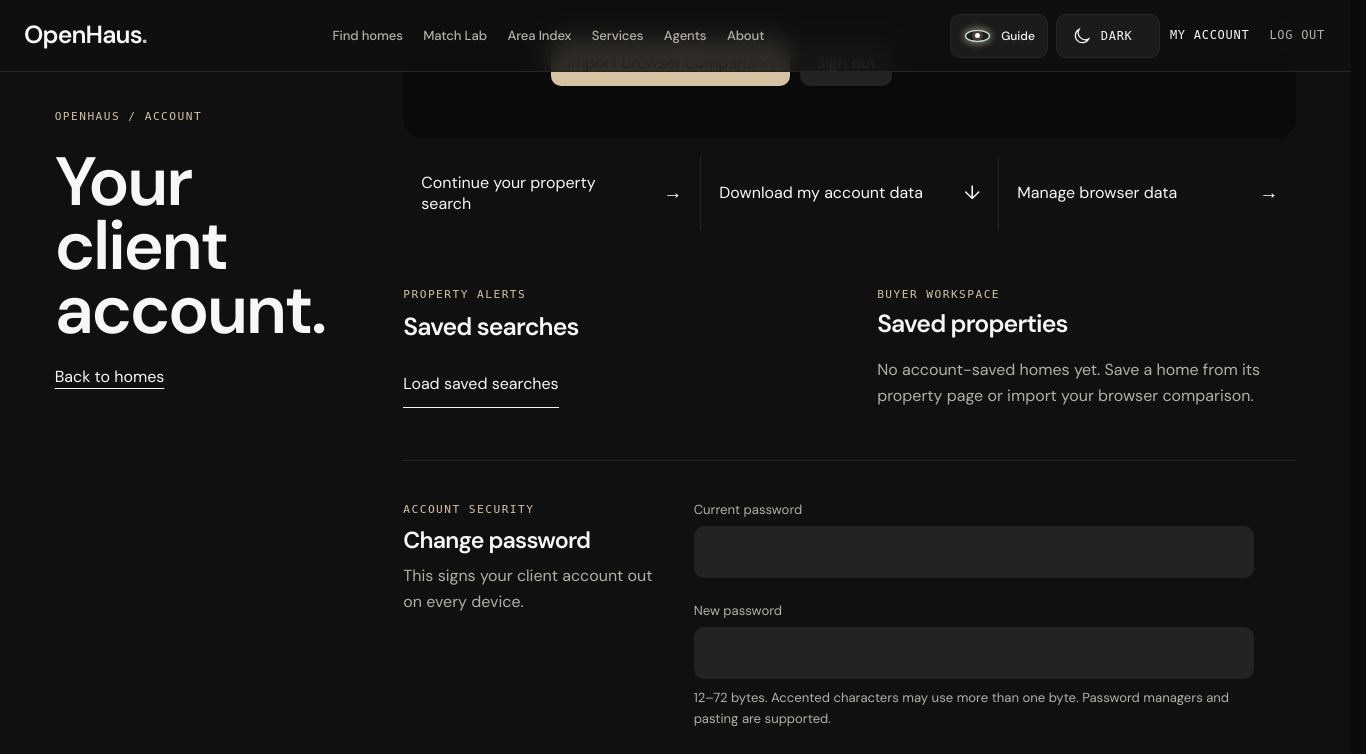
Test: loads and removes account-owned saved searches on demand
(page scrolled)
Expected: the text "No account-saved homes yet" is shown, [877,359,1260,406]
What coordinates should you click on to do the following:
click the button "Load saved searches"
I would click on:
 (481, 384)
Its box is [403,360,559,408].
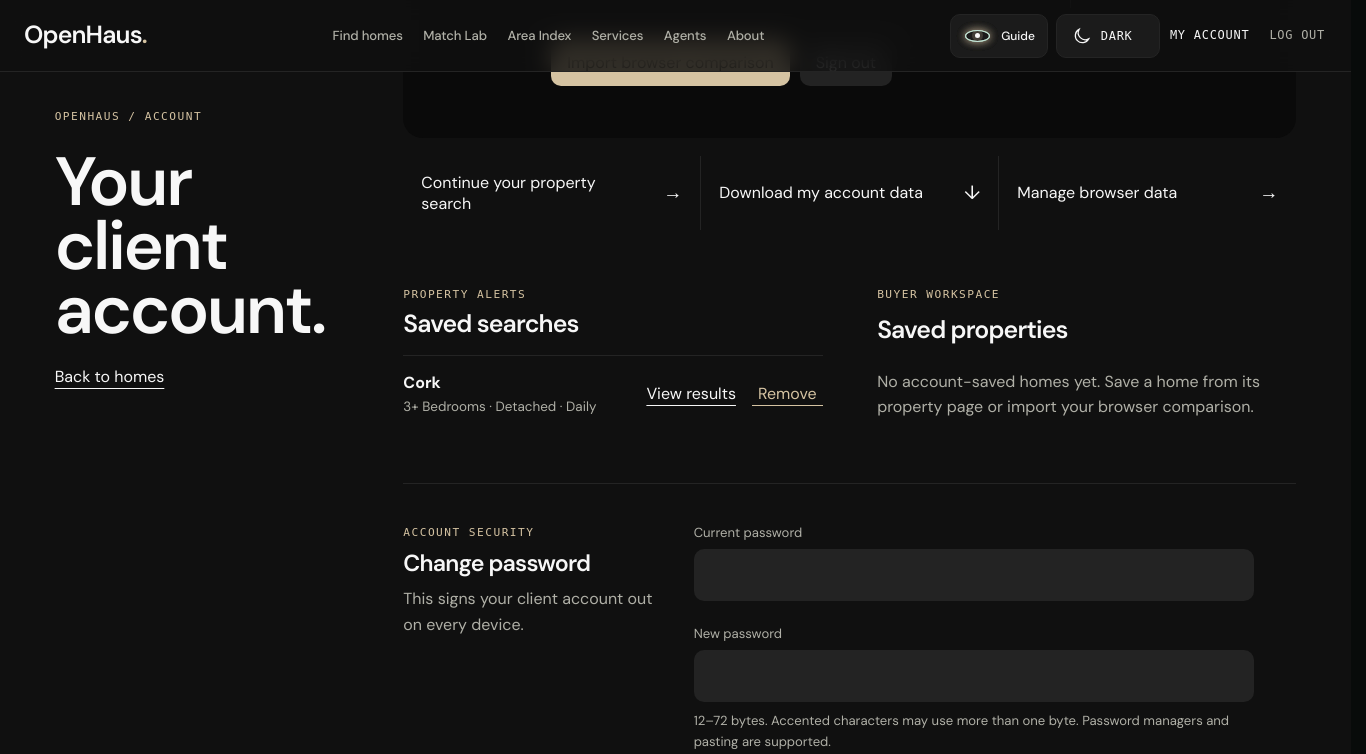
Expected: the text "Cork" is shown, [403,372,441,393]
Expected: the text "3+ bedrooms · detached · daily" is shown, [403,398,596,415]
What coordinates should you click on to do the following:
click the button "Remove"
I would click on:
 (787, 394)
Its box is [752,382,823,406].
(page scrolled)
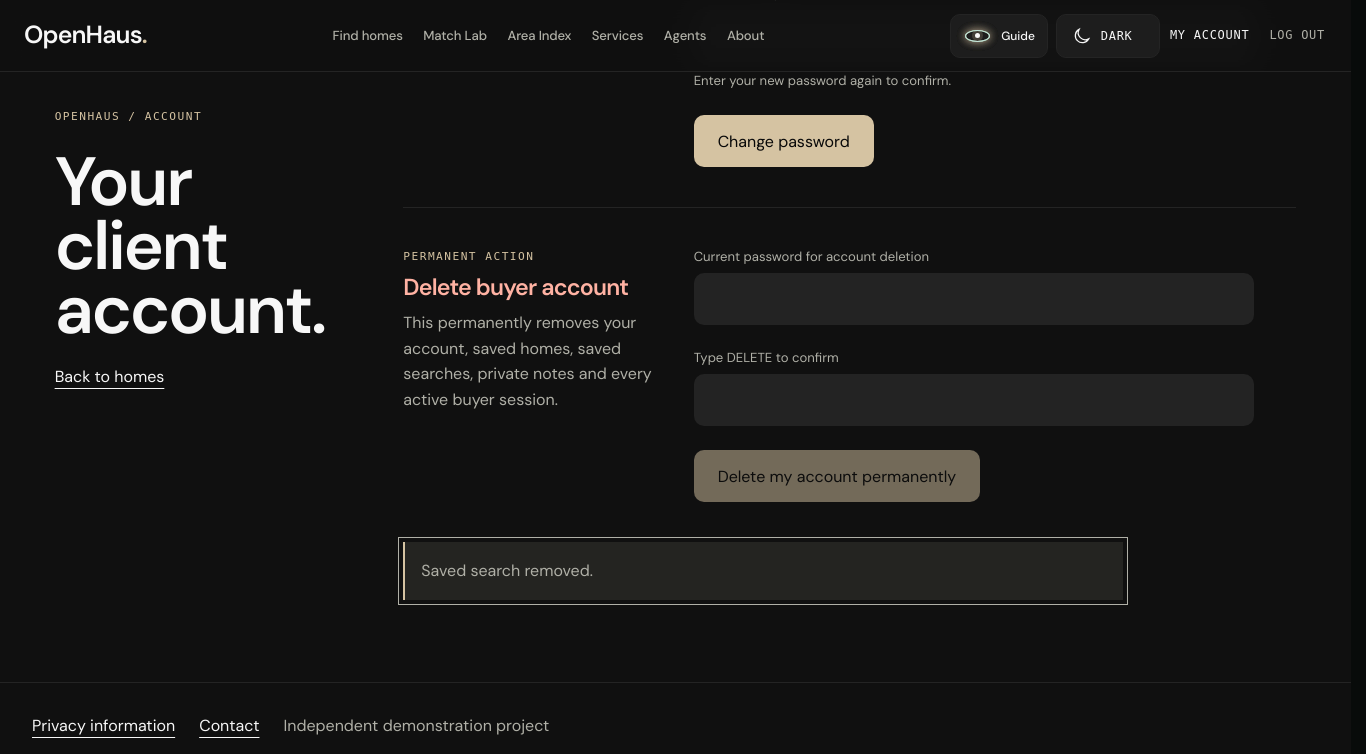
Expected: the message shows "Saved search removed", [421,560,593,581]
